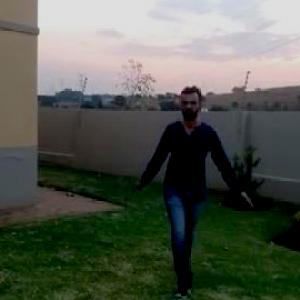land: (116, 69, 270, 299)
